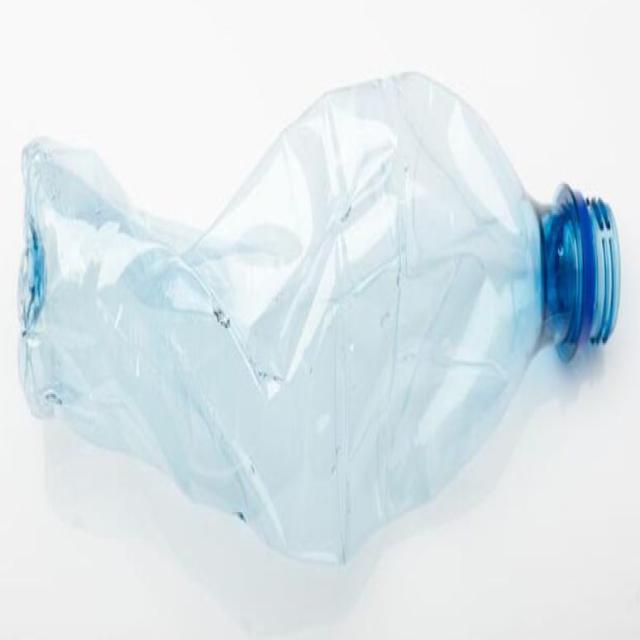general: (16, 67, 621, 566)
